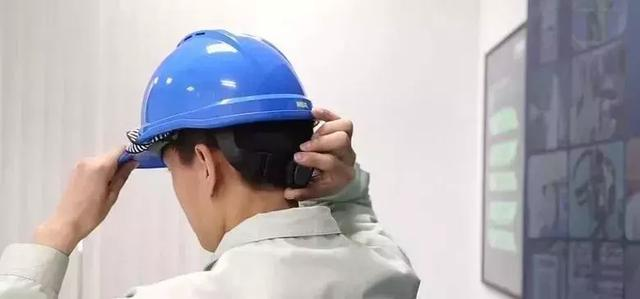helmet: (116, 29, 319, 174)
